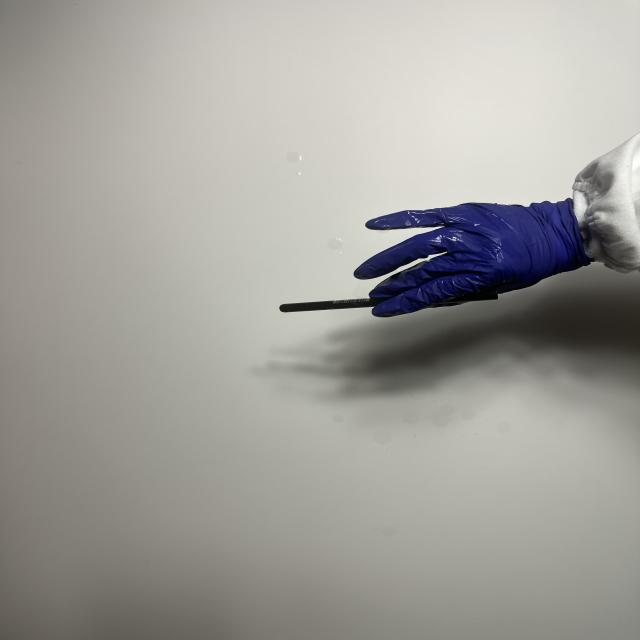gloves_contaminated: (354, 198, 589, 316)
